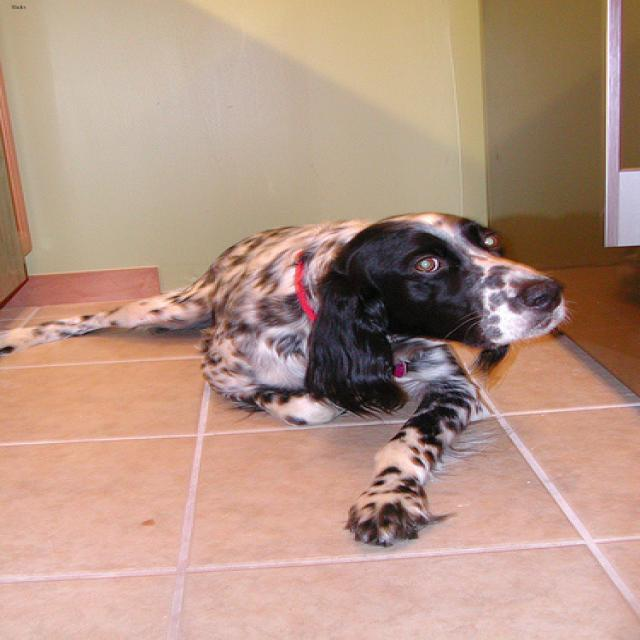dog-english_setter: (2, 207, 579, 559)
